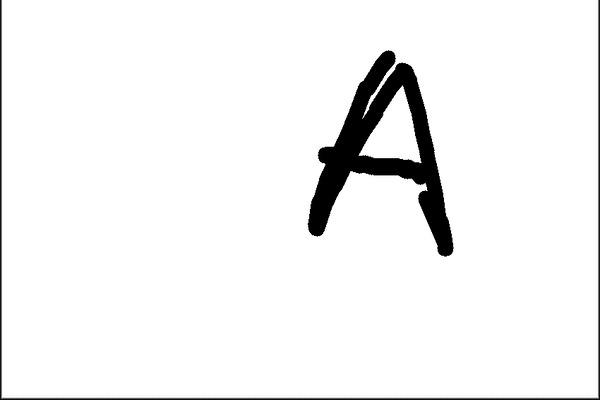A: (301, 36, 464, 271)
